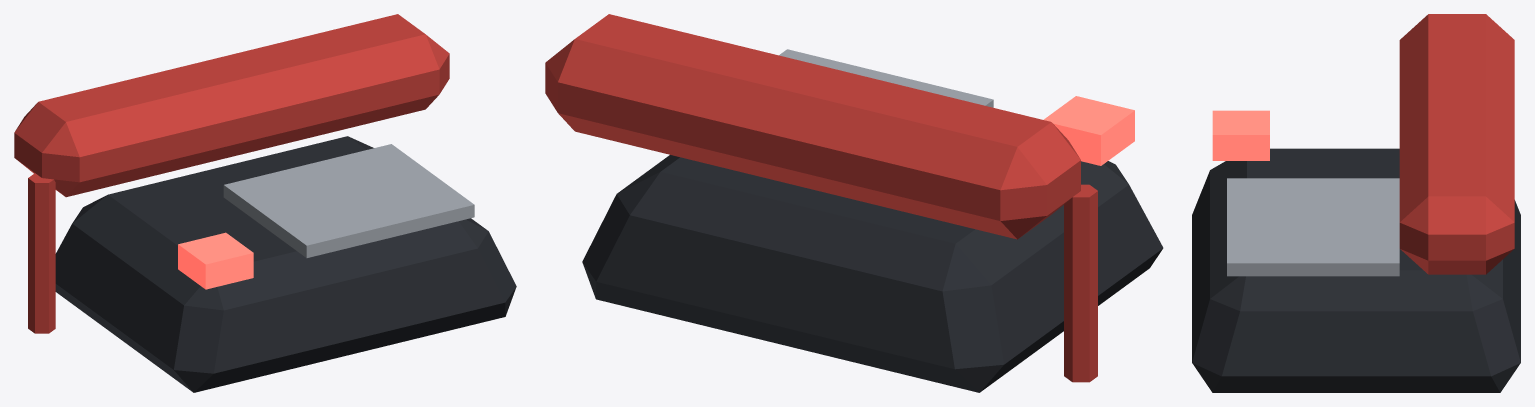
File: desk_phone.glb
3 renders of one model, left to right at view 1: azimuth 30°, elevation 25°; view 2: azimuth 150°, elevation 25°; view 3: azimuth 270°, elevation 25°, orthographic. The views are drawn at different scales.
Visible parts, largest first — view 1: desk_phone_mesh; view 2: desk_phone_mesh; view 3: desk_phone_mesh.
Part boxes in pixels (x1,y1,x2,y2): desk_phone_mesh: (14,14,516,392); desk_phone_mesh: (545,14,1163,392); desk_phone_mesh: (1192,14,1520,392).
Bounding box in the file's own units: 0.3487 × 0.16 × 0.2285.
